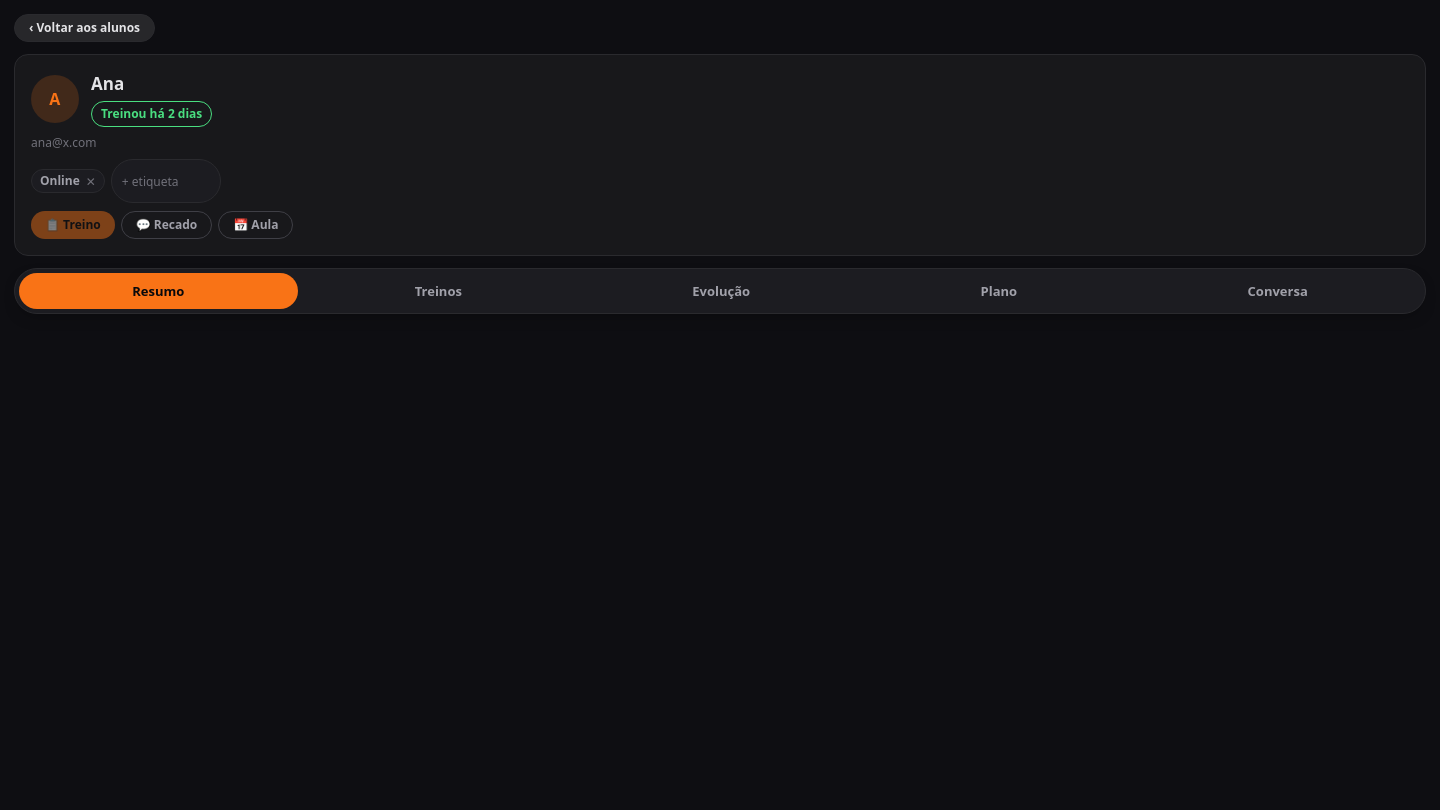
Test case: ClientDetail › voltar aos alunos
This screenshot has width=1440, height=810.
Click the button "‹ Voltar aos alunos" at (84, 28), box [14,14,155,42]
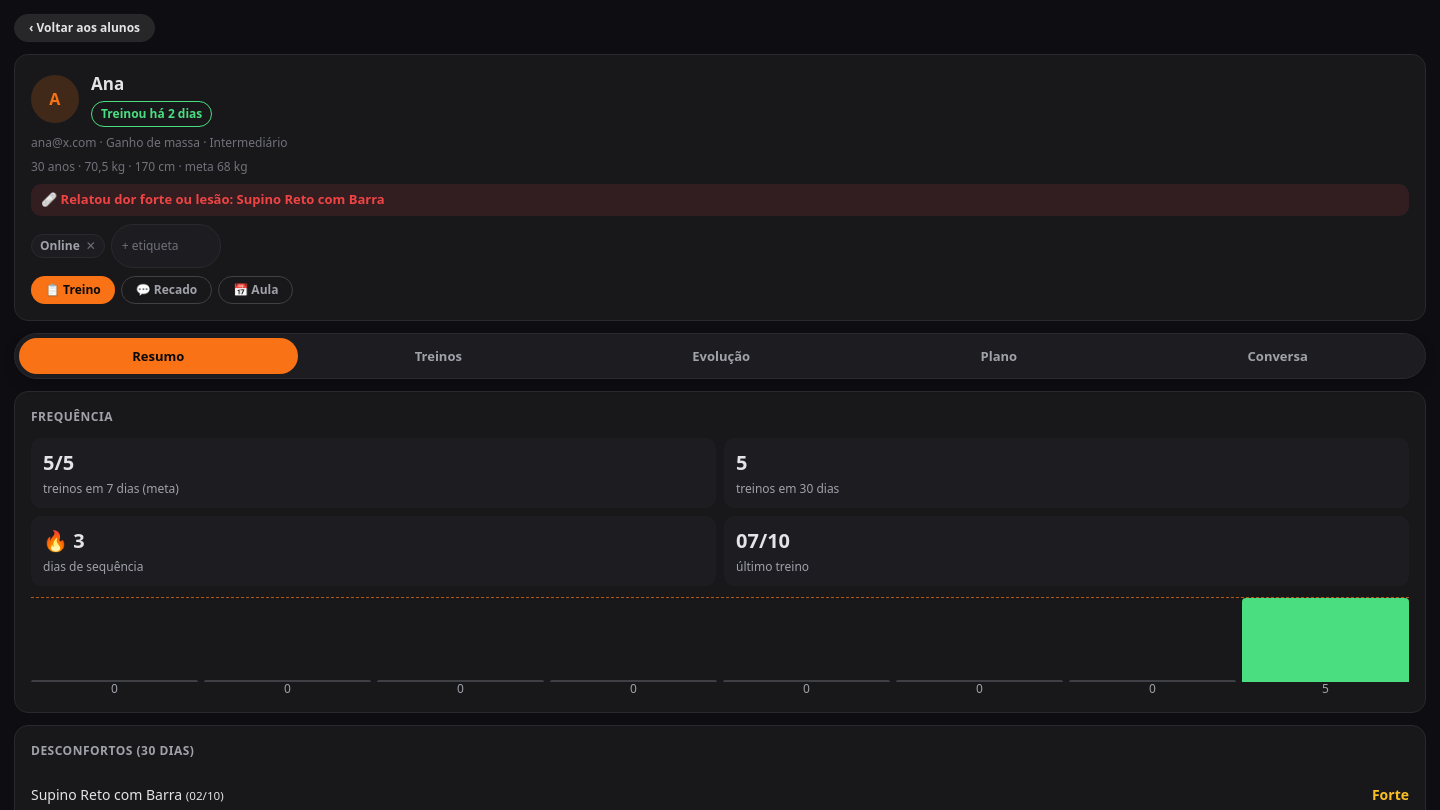
Expected: the text "Frequência" is shown, [31,408,113,425]
